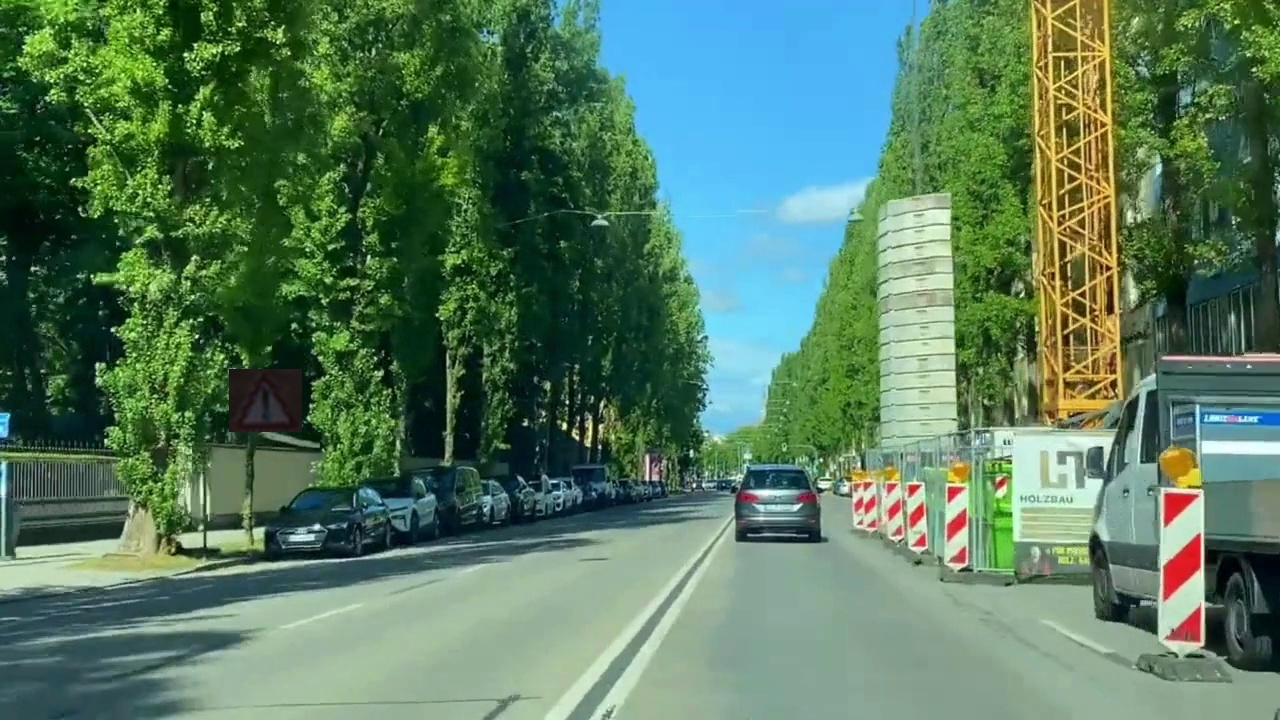Caution: (229, 369, 302, 432)
